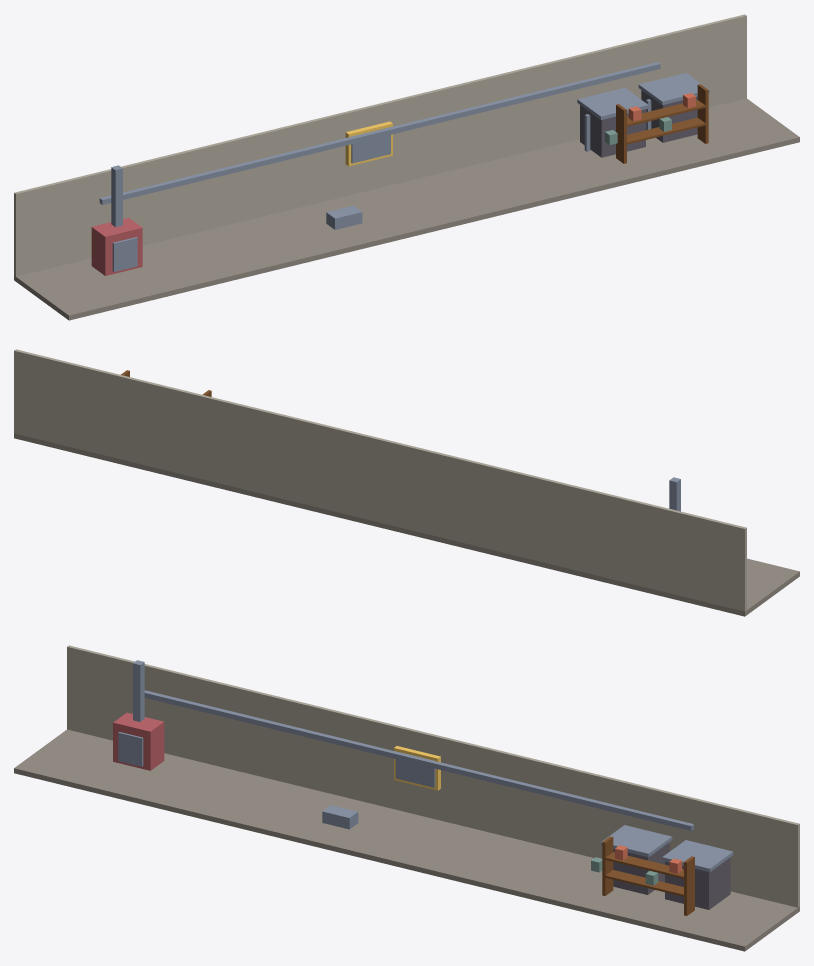
The model's file is bajocubierta.gltf.
The picture shows the model from 3 angles, top to bottom: view 1: azimuth 30°, elevation 25°; view 2: azimuth 150°, elevation 25°; view 3: azimuth 330°, elevation 25°; orthographic projection.
Parts seen in each view (by area): view 1: trasera, forjado, colector, caldera, deposito_0, deposito_tapa_1, deposito_tapa_0, deposito_1, cuadro_puerta, caldera_puerta, estante_tabla_a, caldera_tiraje (+5 smaller); view 2: trasera, forjado; view 3: trasera, forjado, colector, caldera, deposito_1, deposito_tapa_0, deposito_tapa_1, deposito_0, cuadro_puerta, caldera_puerta, estante_tabla_a, caldera_tiraje (+5 smaller).
Part boxes in pixels (left/top/right/bottom): trasera: left=14, top=14, right=746, bottom=276; forjado: left=14, top=98, right=799, bottom=320; colector: left=99, top=62, right=660, bottom=204; caldera: left=91, top=218, right=142, bottom=275; deposito_0: left=580, top=105, right=645, bottom=157; deposito_tapa_1: left=638, top=73, right=709, bottom=104; deposito_tapa_0: left=577, top=88, right=648, bottom=119; deposito_1: left=641, top=90, right=697, bottom=142; cuadro_puerta: left=351, top=128, right=390, bottom=163; caldera_puerta: left=112, top=237, right=137, bottom=271; estante_tabla_a: left=627, top=117, right=705, bottom=144; caldera_tiraje: left=111, top=165, right=122, bottom=227; trasera: left=14, top=349, right=746, bottom=611; forjado: left=14, top=433, right=799, bottom=616; trasera: left=67, top=645, right=799, bottom=907; forjado: left=14, top=729, right=799, bottom=951; colector: left=144, top=690, right=693, bottom=830; caldera: left=113, top=712, right=164, bottom=770; deposito_1: left=665, top=857, right=730, bottom=909; deposito_tapa_0: left=601, top=825, right=672, bottom=857; deposito_tapa_1: left=662, top=840, right=733, bottom=872; deposito_0: left=613, top=842, right=669, bottom=894; cuadro_puerta: left=395, top=753, right=435, bottom=787; caldera_puerta: left=118, top=732, right=143, bottom=766; estante_tabla_a: left=605, top=870, right=684, bottom=896; caldera_tiraje: left=133, top=660, right=144, bottom=721.
Size of the model in its own units: 21.48 by 2.91 by 2.8.
